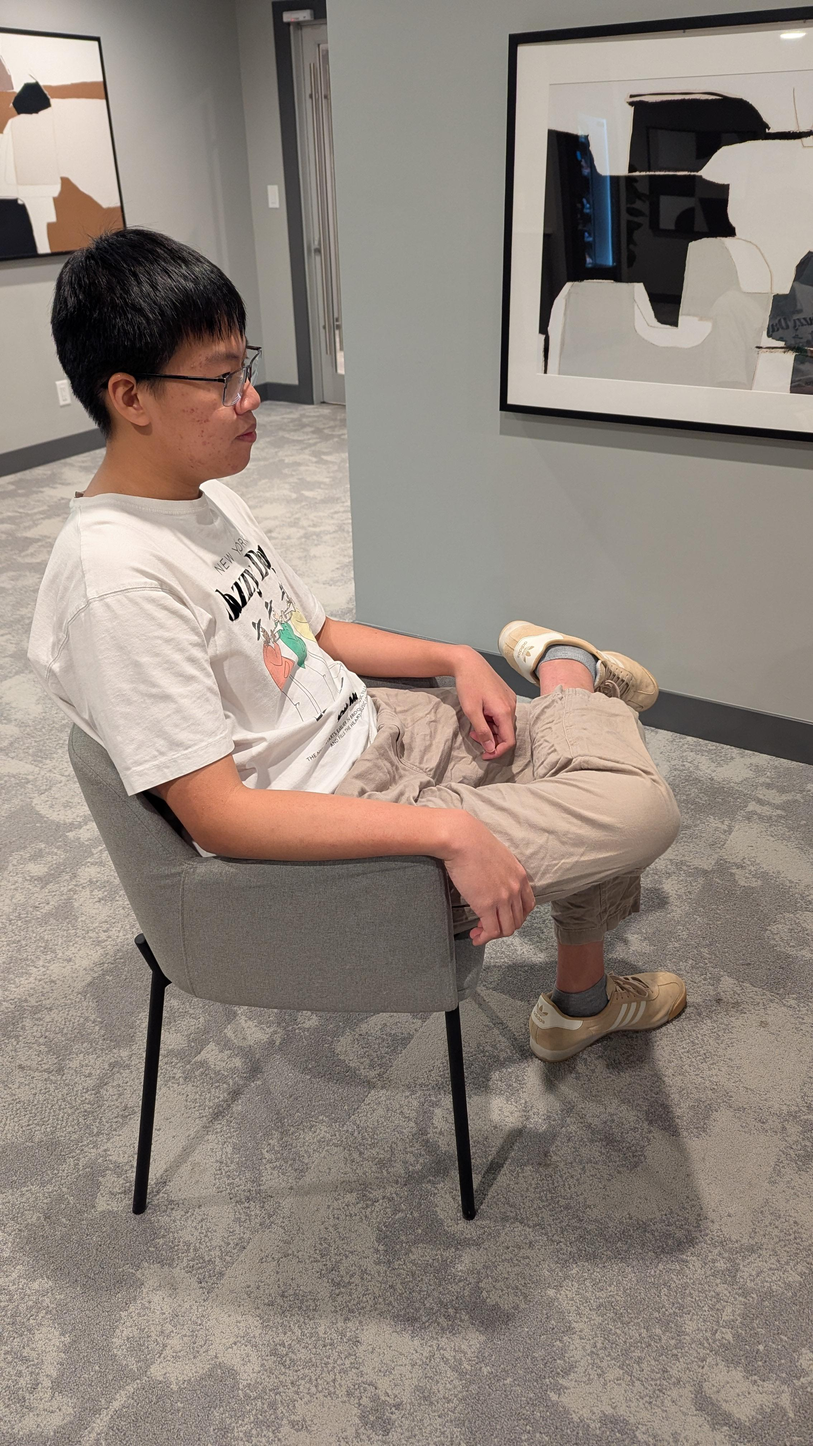BadPosture: (30, 228, 689, 1060)
